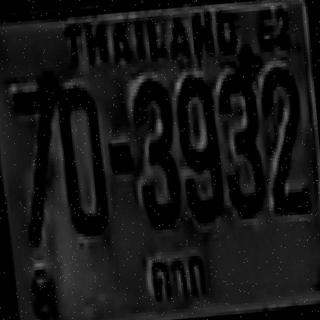N00: (55, 83, 109, 234)
N02: (259, 64, 307, 212)
N03: (214, 56, 268, 214), (130, 75, 181, 226)
N07: (8, 72, 68, 243)
N09: (174, 73, 224, 221)
P69: (142, 246, 214, 311)
